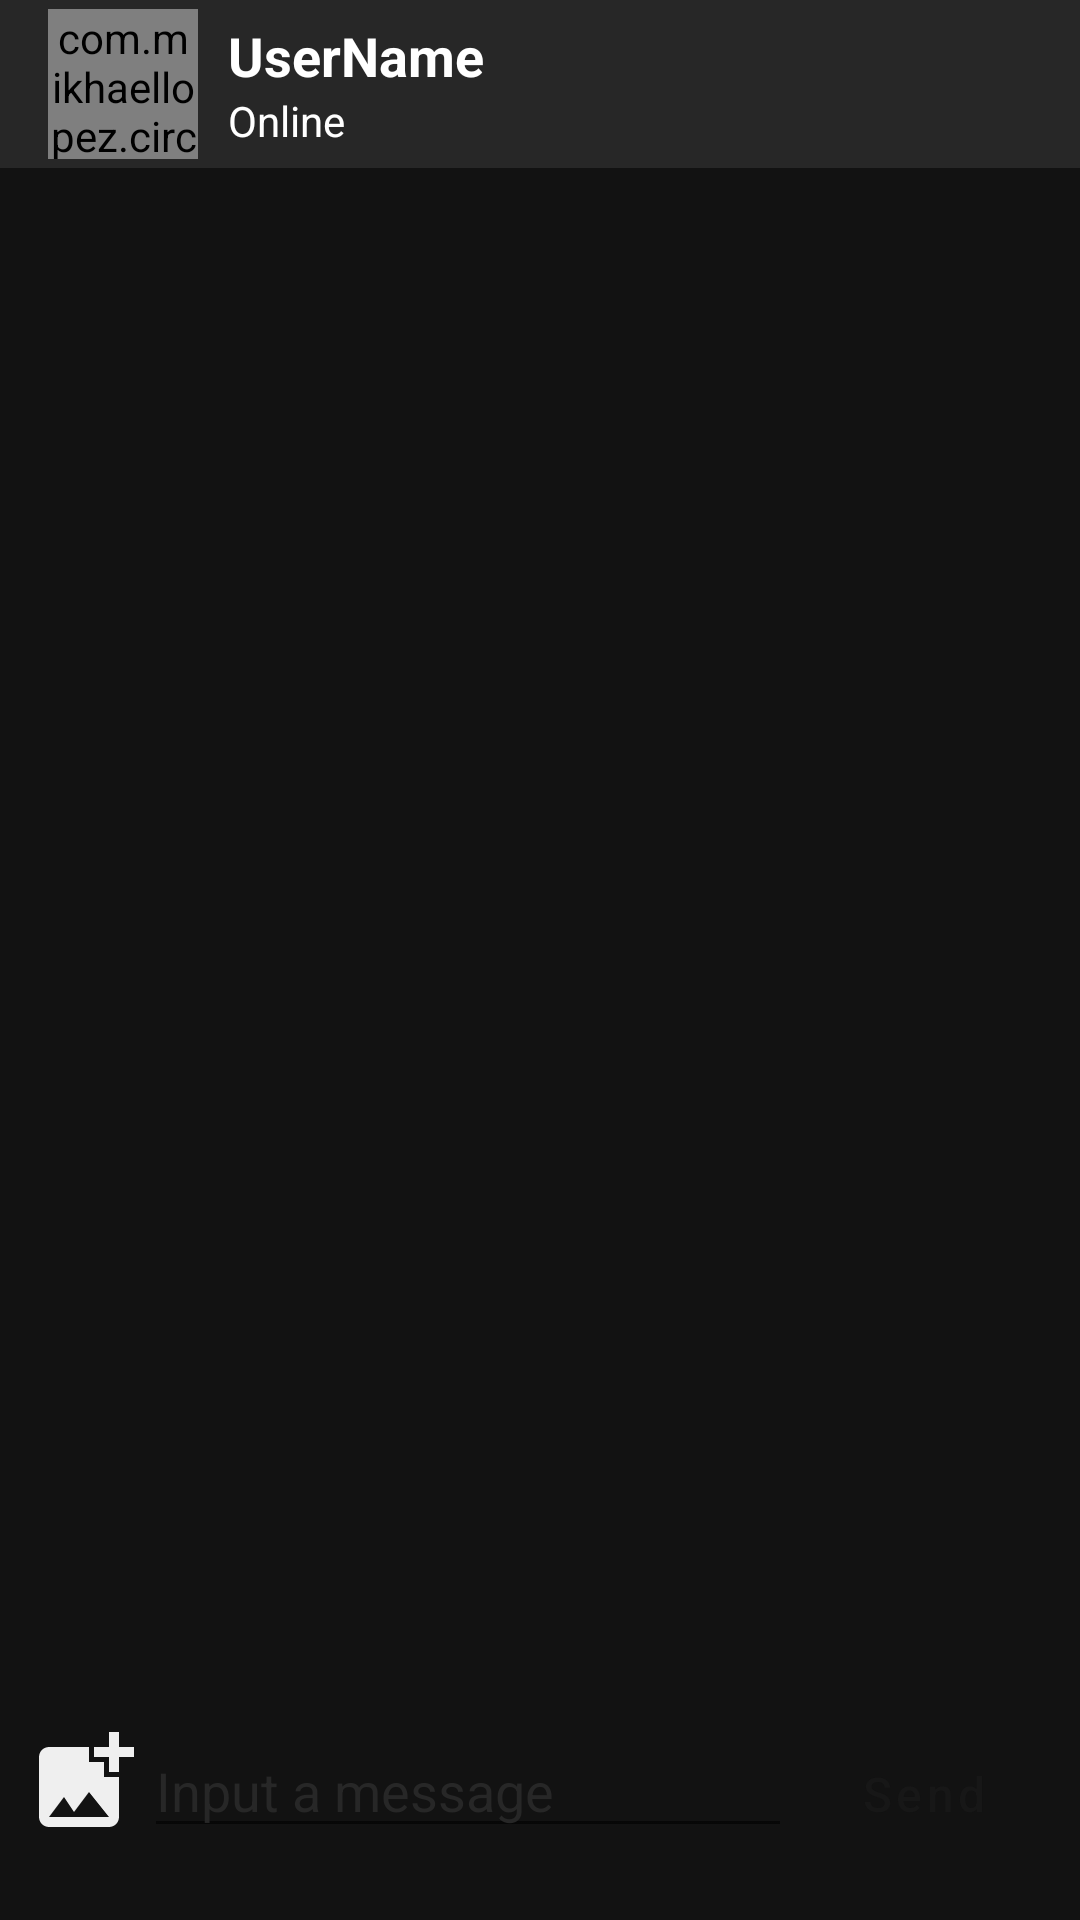

Icon click points for this 1080w x 1920h phone screenshot, format [x,y]:
add photo alternate: [86,1779]
